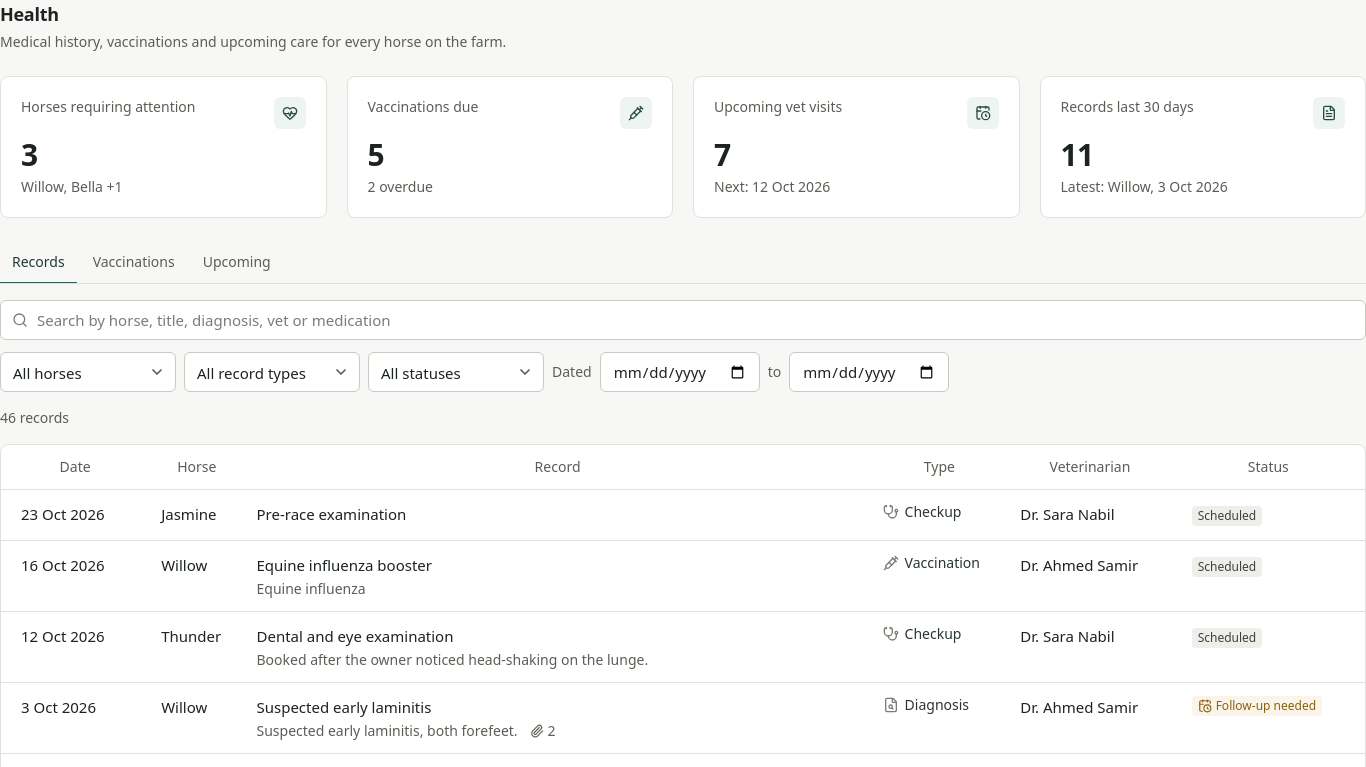
Test: MedicalOverviewPage › combines filters, and clearing them restores the full list
Select "Duke" in the 1st dropdown named "filter by horse" at (88, 372), box [0,352,176,392]
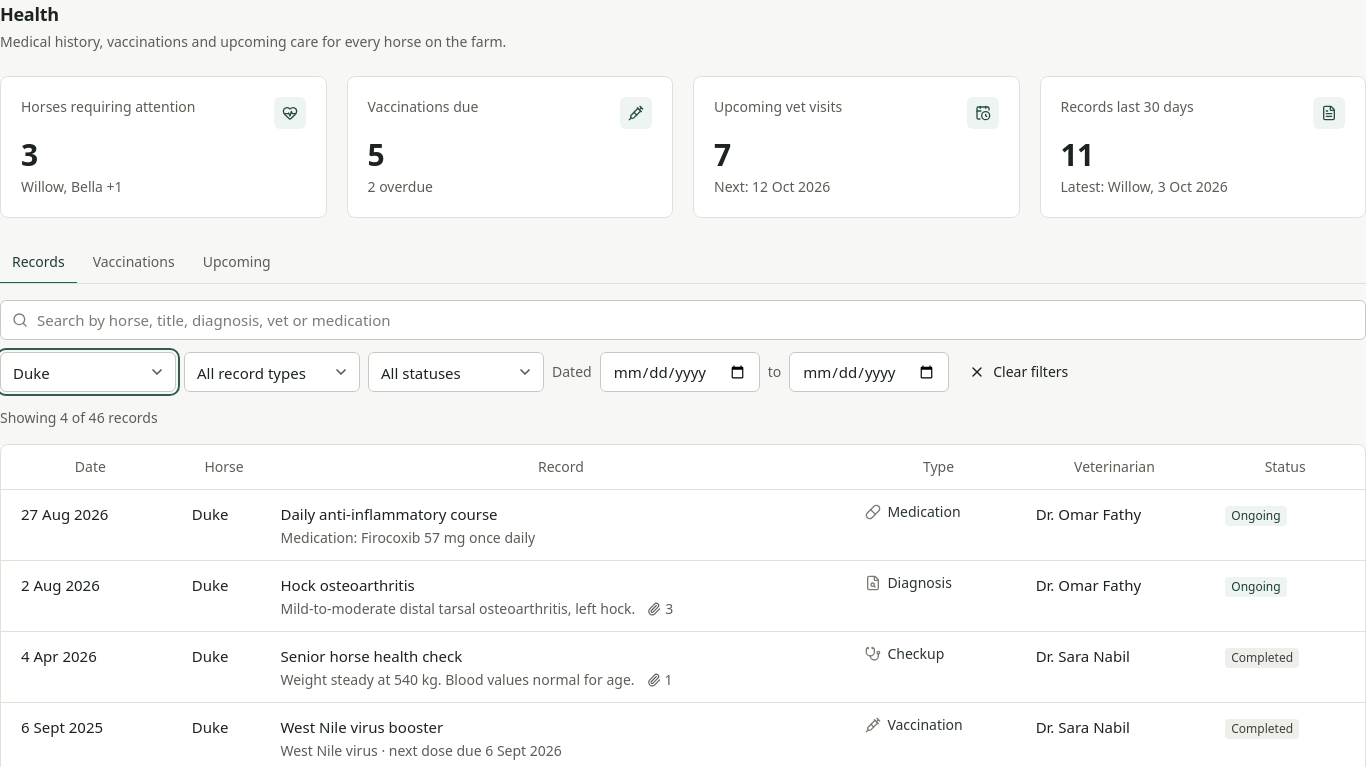
Select "Ongoing" in the 3rd dropdown named "filter by status" at (456, 372), box [368,352,544,392]
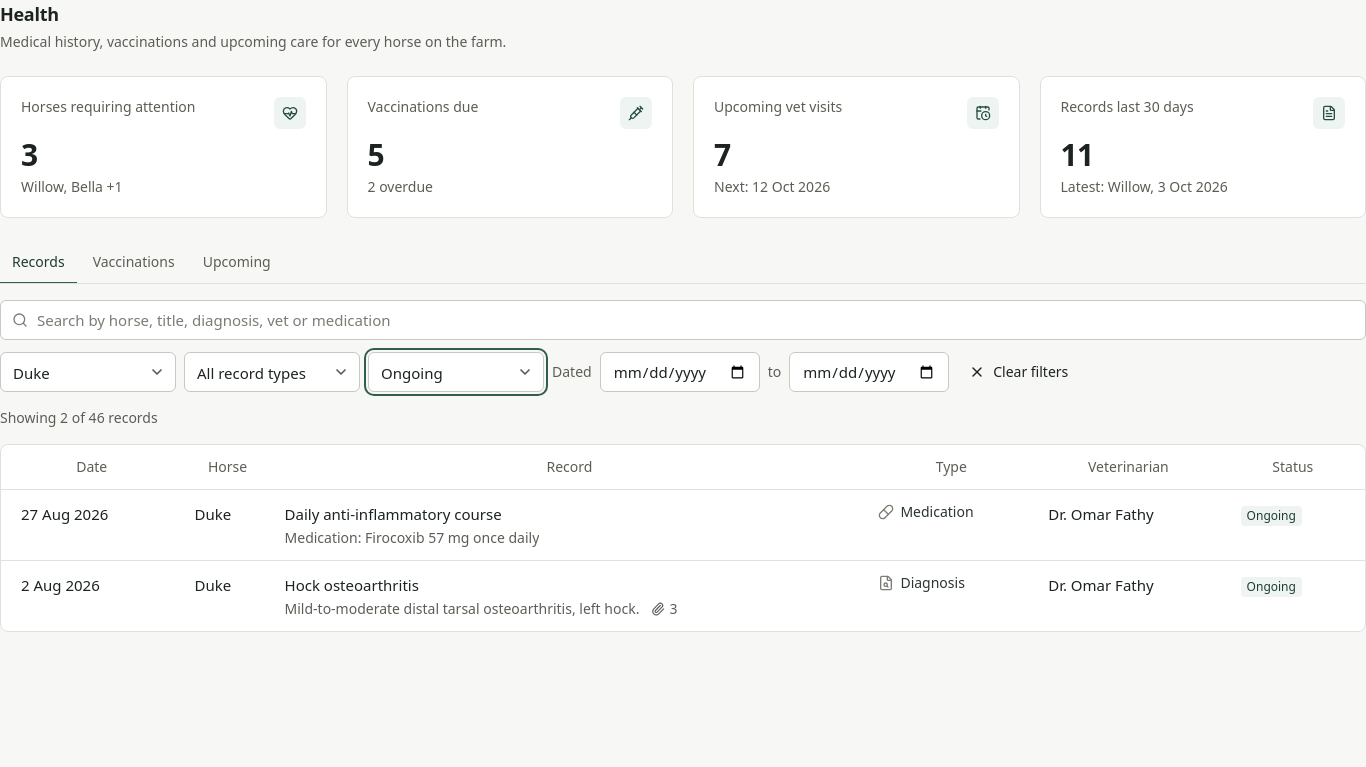
Click the button "Clear filters" at (1019, 372), box [957,356,1080,388]
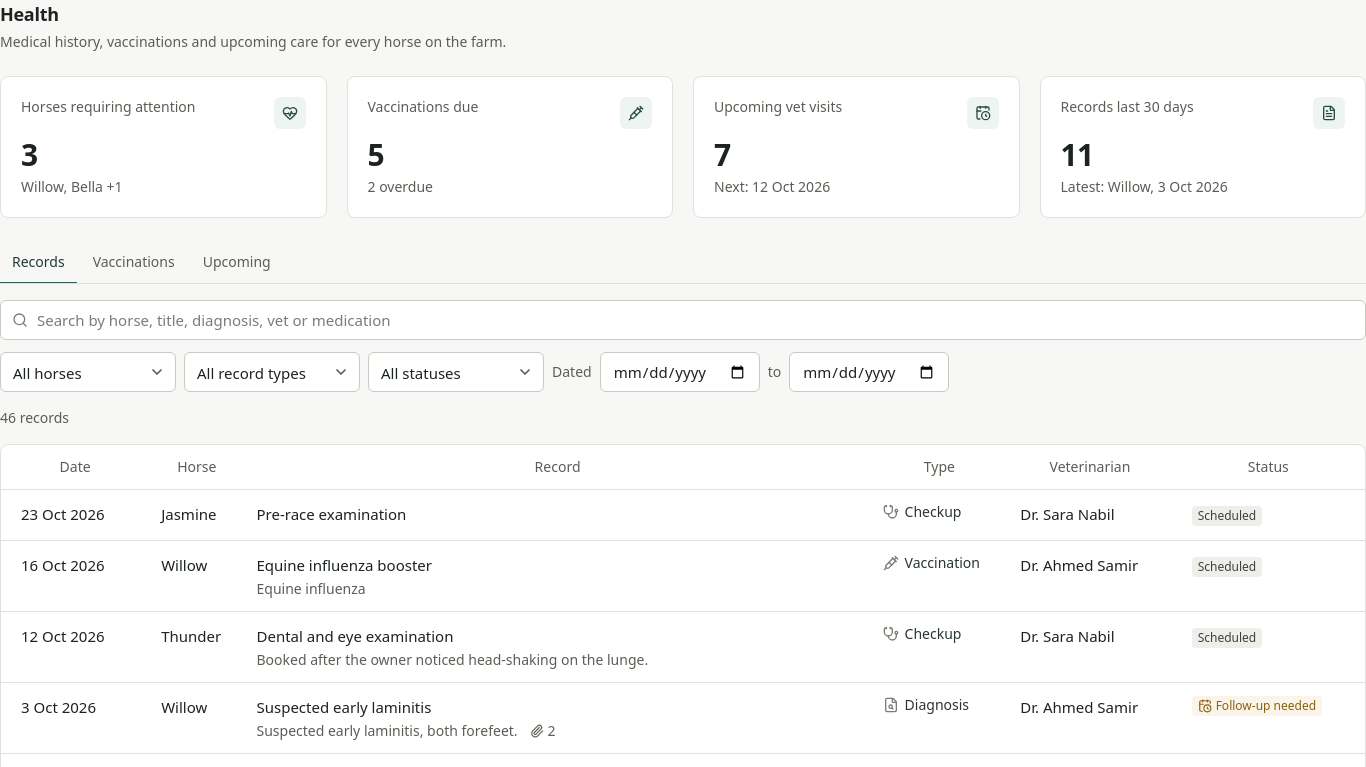
Now the message reads "46 records", box [0,408,69,427]
